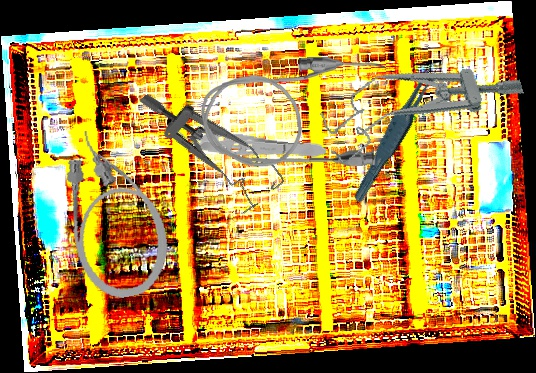Cannula: (55, 119, 176, 305), (199, 54, 389, 172)
Speculum: (313, 37, 529, 167), (137, 59, 288, 224)
Tissue Forceps: (342, 57, 453, 204), (169, 124, 327, 164)
